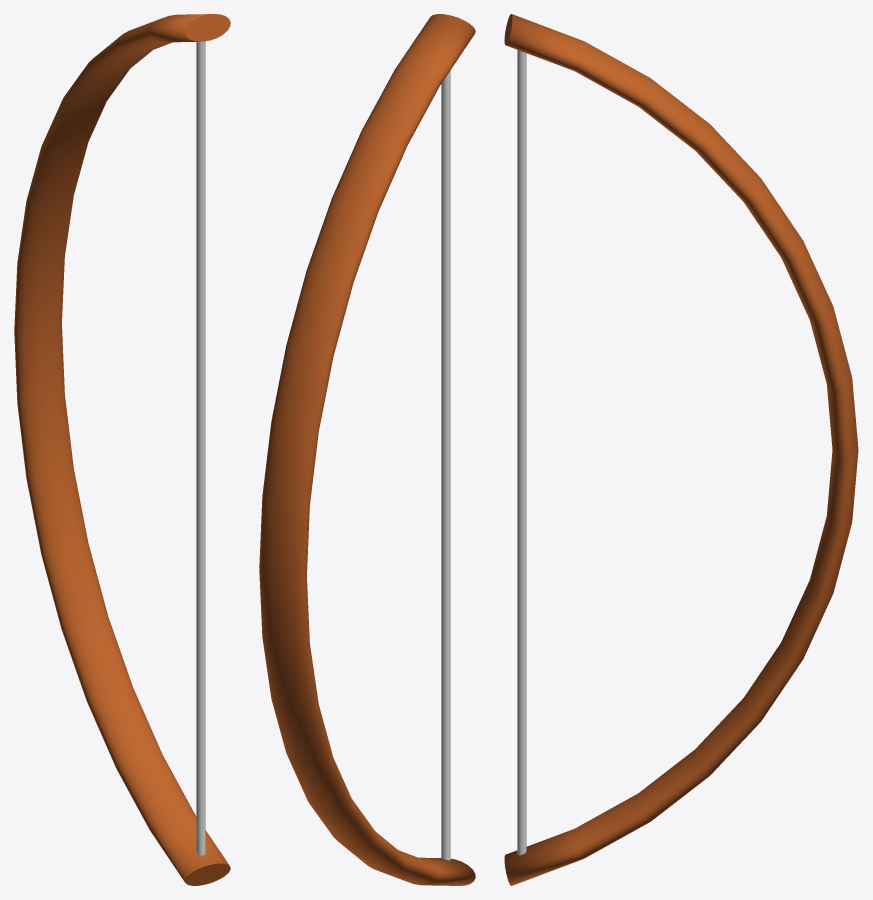
The model's file is Bow.fbx.
The picture shows the model from 3 angles, left to right: view 1: azimuth 30°, elevation 25°; view 2: azimuth 150°, elevation 25°; view 3: azimuth 270°, elevation 25°; orthographic projection.
Parts seen in each view (by area): view 1: Torus.002, Cylinder; view 2: Torus.002, Cylinder; view 3: Torus.002, Cylinder.
Part boxes in pixels (<box>): Torus.002: <box>14,14,230,885</box>; Cylinder: <box>196,41,205,855</box>; Torus.002: <box>259,14,475,885</box>; Cylinder: <box>441,70,450,860</box>; Torus.002: <box>504,14,858,885</box>; Cylinder: <box>517,50,526,855</box>.
Size of the model in its own units: 8.08 by 146 by 54.44.
